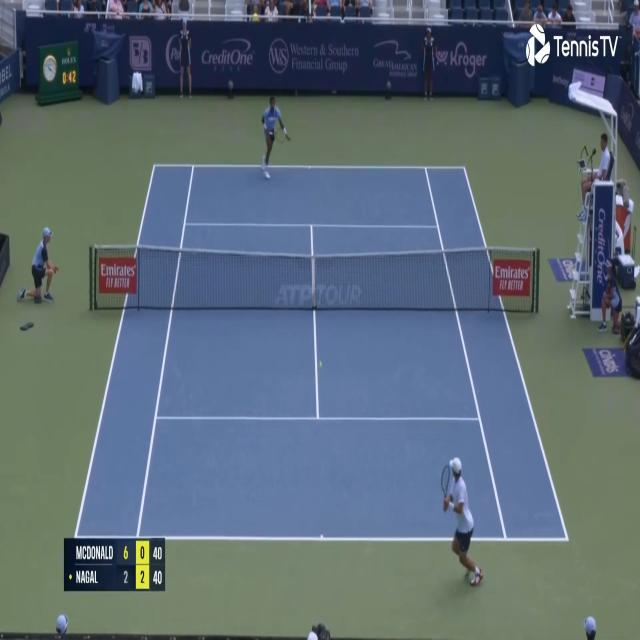tennis-player: (441, 453, 484, 591), (259, 92, 292, 179)
